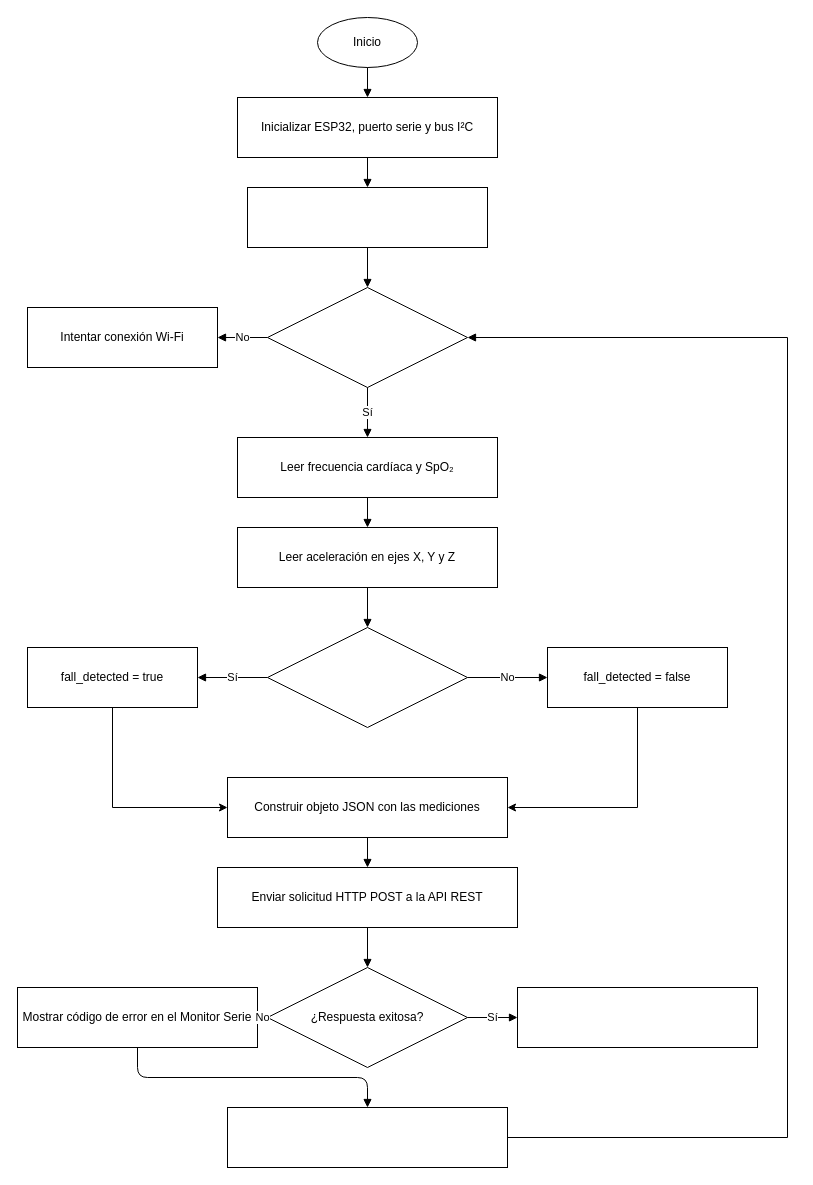
Image size: 813x1185. Some labels were removed from this diagram. The shapes that lost their labels are listed below. From the top down, each one's centre as x and y in pixels, then its label:
point (367, 217): Inicializar MAX30102 y MPU6050
point (367, 337): ¿Wi‑Fi conectado?
point (367, 677): ¿Se detecta una caída?
point (637, 1017): Mostrar confirmación en el Monitor Serie
point (367, 1137): Esperar hasta el siguiente ciclo de medición
